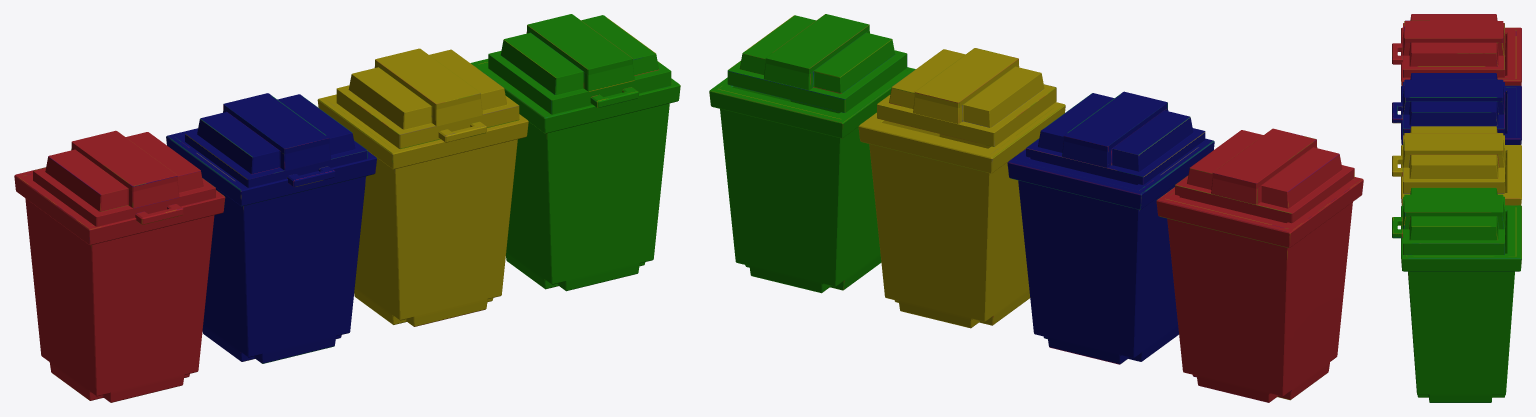
The model's file is int_103.fbx.
The picture shows the model from 3 angles, left to right: view 1: azimuth 30°, elevation 25°; view 2: azimuth 150°, elevation 25°; view 3: azimuth 270°, elevation 25°; orthographic projection. The views are drawn at different scales.
Parts seen in each view (by area): view 1: contenedores.001; view 2: contenedores.001; view 3: contenedores.001.
Part boxes in pixels (x1,y1,x2,y2): contenedores.001: (14, 14, 680, 402); contenedores.001: (709, 14, 1363, 402); contenedores.001: (1392, 14, 1521, 402).
Bounding box in the file's own units: 381 × 140 × 90.31.
Materials: 1 (1 with a texture image).
